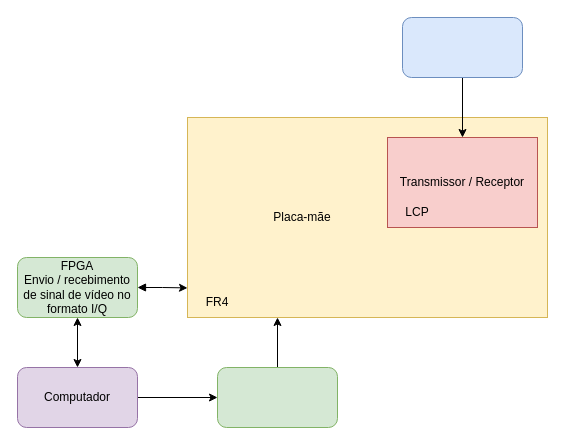
Image size: 565x445. Some labels were removed from this diagram. Here are the shapes that lost their labels. From the top down, the centre of each, then its label:
At [462,47]: "Oscilador local 16,3 a 18,3 GHz".
At [277,397]: "FRDM-KL25Z Configuração via SPI".
